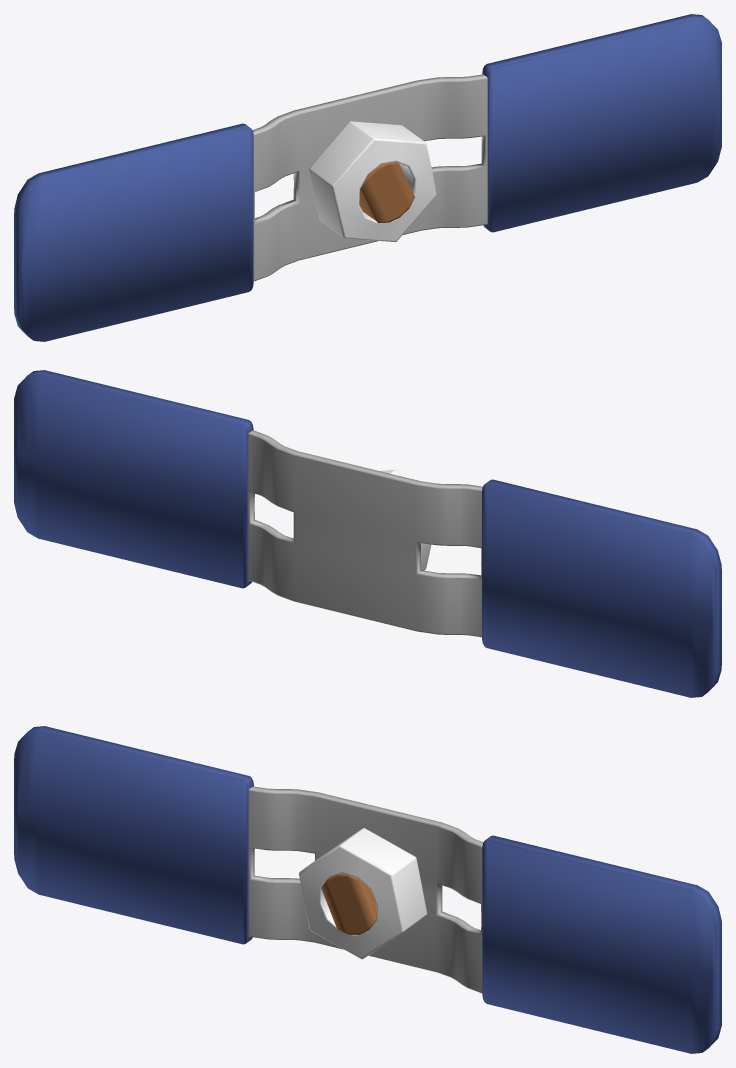
File: SOHANDLE2.fbx
3 views of the same model, one above another, from view 1: azimuth 30°, elevation 25°; view 2: azimuth 150°, elevation 25°; view 3: azimuth 330°, elevation 25° (orthographic).
Parts seen in each view (by area): view 1: SOHANDLE2_Baked; view 2: SOHANDLE2_Baked; view 3: SOHANDLE2_Baked.
Part boxes in pixels (box(x1,y1,x2,y2)): SOHANDLE2_Baked: box(14, 14, 721, 341); SOHANDLE2_Baked: box(14, 370, 721, 697); SOHANDLE2_Baked: box(14, 726, 721, 1053).
Bounding box in the file's own units: 10.99 × 2.45 × 0.8983.
1 material, 1 textured.
